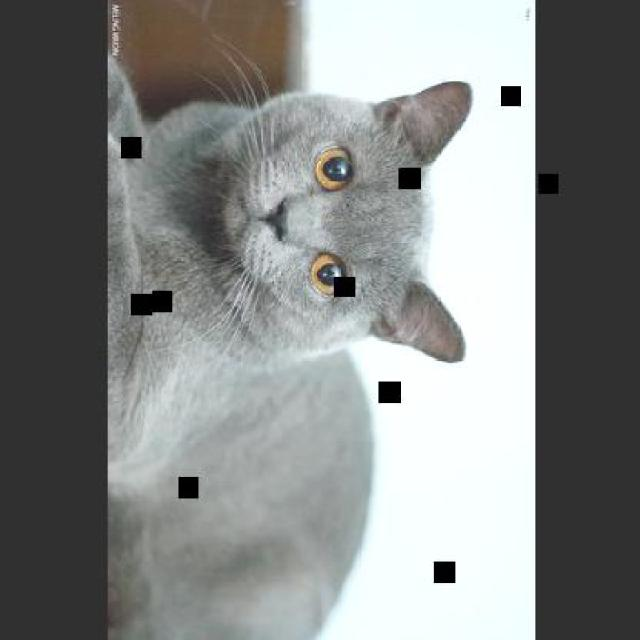unauthorized: (105, 31, 472, 638)
